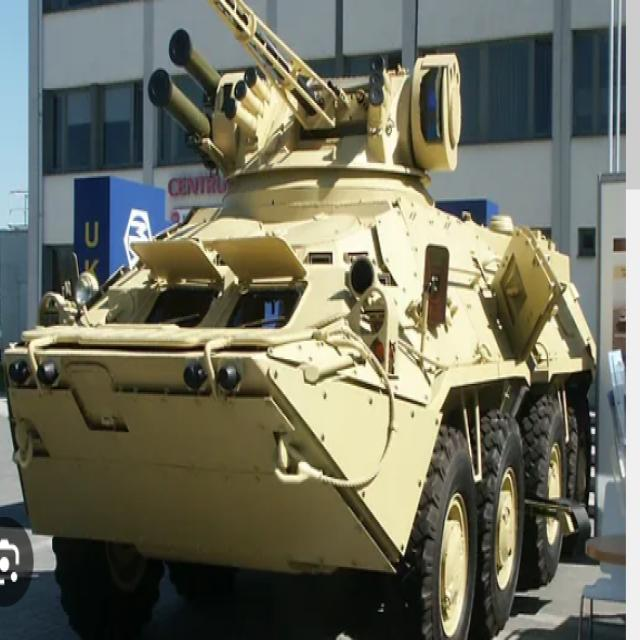MIL_APC: (34, 62, 600, 632)
